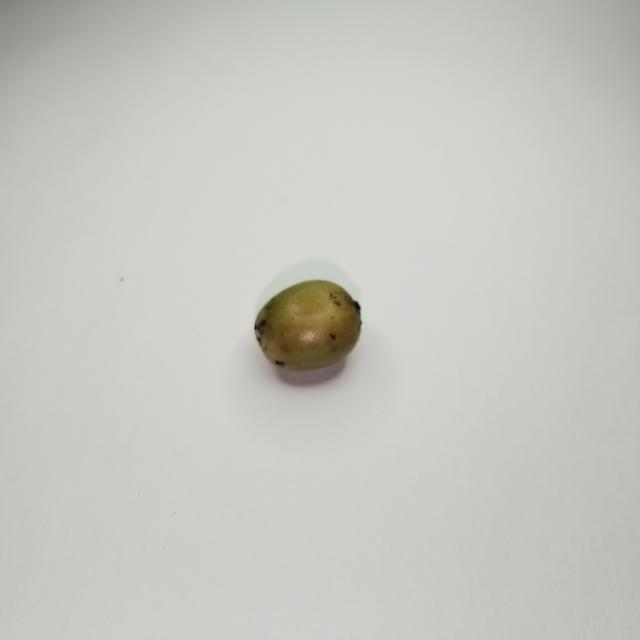Sano: (254, 279, 361, 371)
